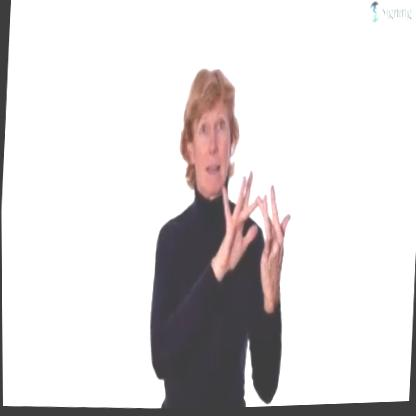Internet: (141, 55, 296, 412)
